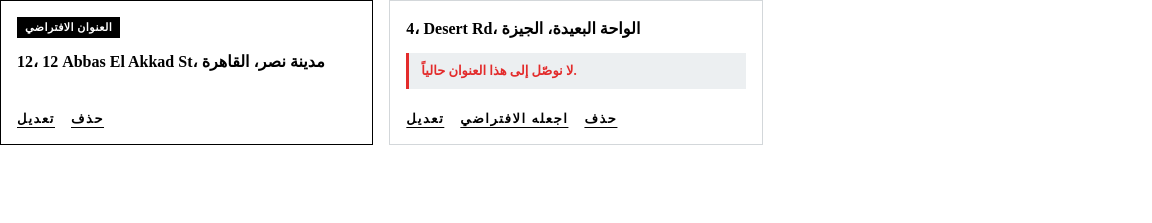
Test case: AddressBook › shows the API's message when a change is refused
Click the button "حذف" below "العنوان الافتراضي" at (88, 118), box [71, 108, 104, 128]
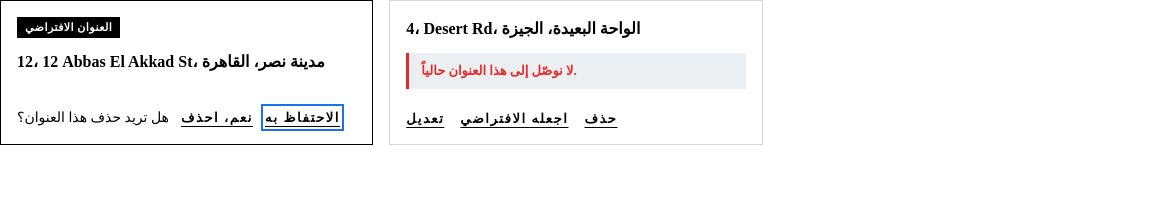
Click the button "نعم، احذف" at (217, 118), box [181, 108, 253, 127]
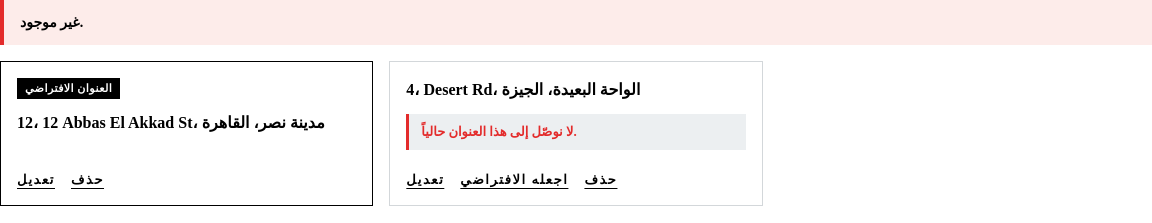
Check: the number of elements with test id "address" is 2, box [0, 61, 373, 206]; [389, 61, 763, 206]
Check: the message reads "غير موجود.", box [20, 15, 83, 30]
